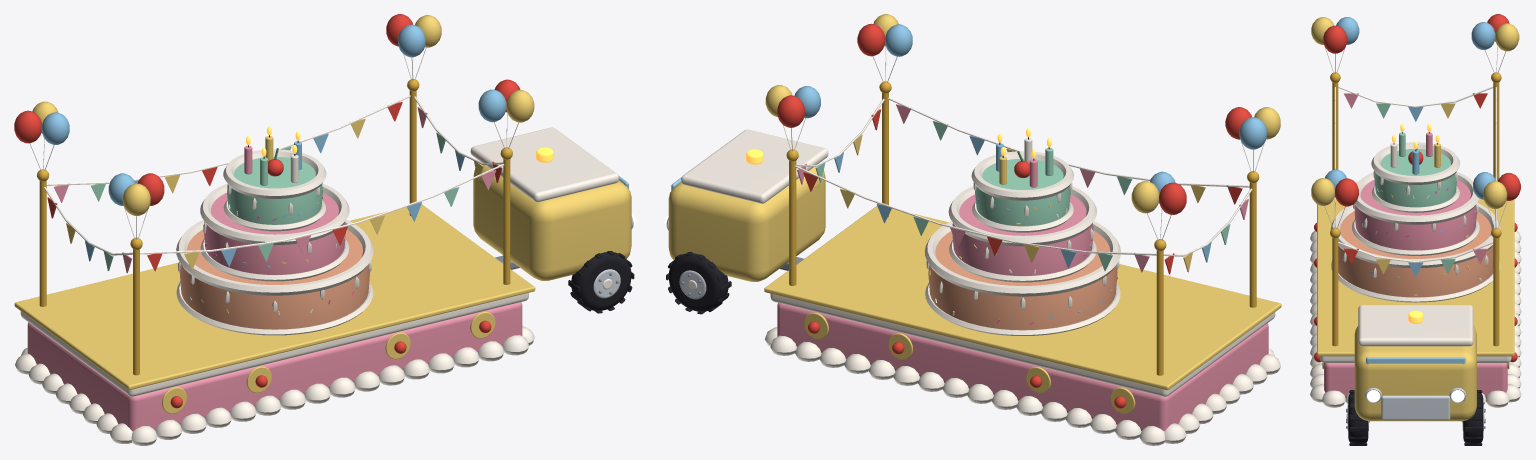
File: parade_float.glb
3 renders of one model, left to right at view 1: azimuth 30°, elevation 25°; view 2: azimuth 150°, elevation 25°; view 3: azimuth 270°, elevation 25°, orthographic. The views are drawn at different scales.
Visible parts, largest first — view 1: parade_float; view 2: parade_float; view 3: parade_float.
Boxes of the visible parts, box(x1,y1,x2,y2) form: parade_float: box(14, 14, 635, 445); parade_float: box(664, 14, 1281, 445); parade_float: box(1310, 14, 1521, 445).
Bounding box in the file's own units: 7.08 × 3.19 × 2.76.
Materials: 1 (1 with a texture image).
